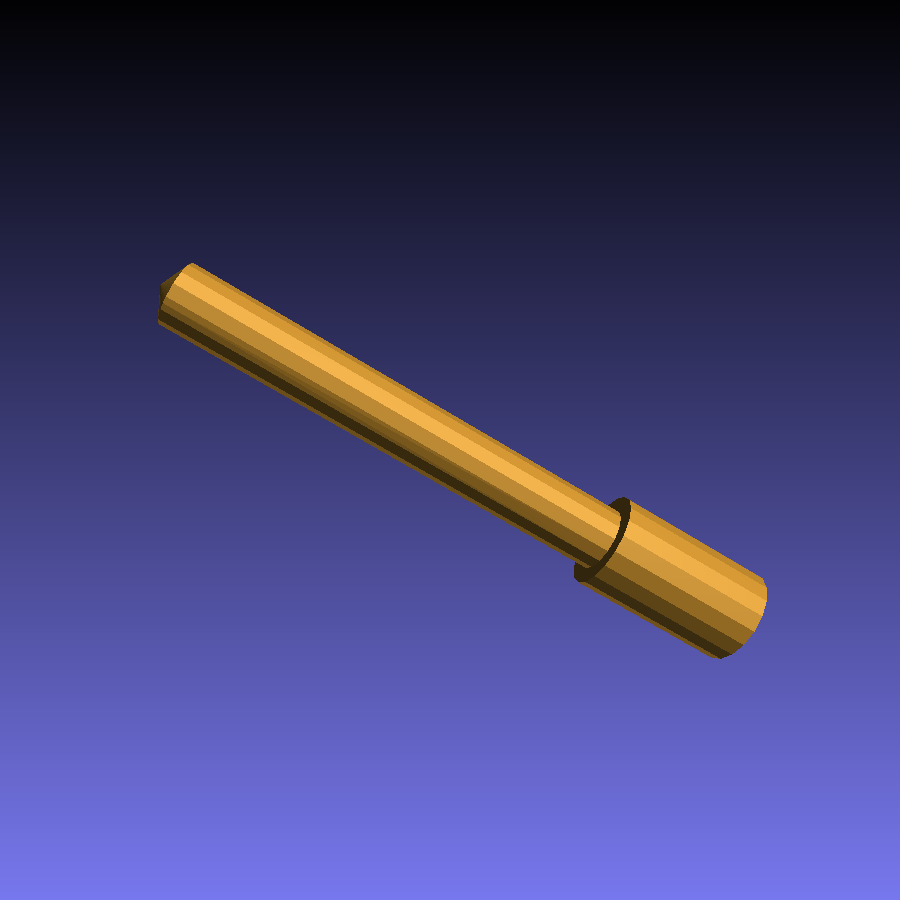cargo_g: (155, 263, 768, 660)
